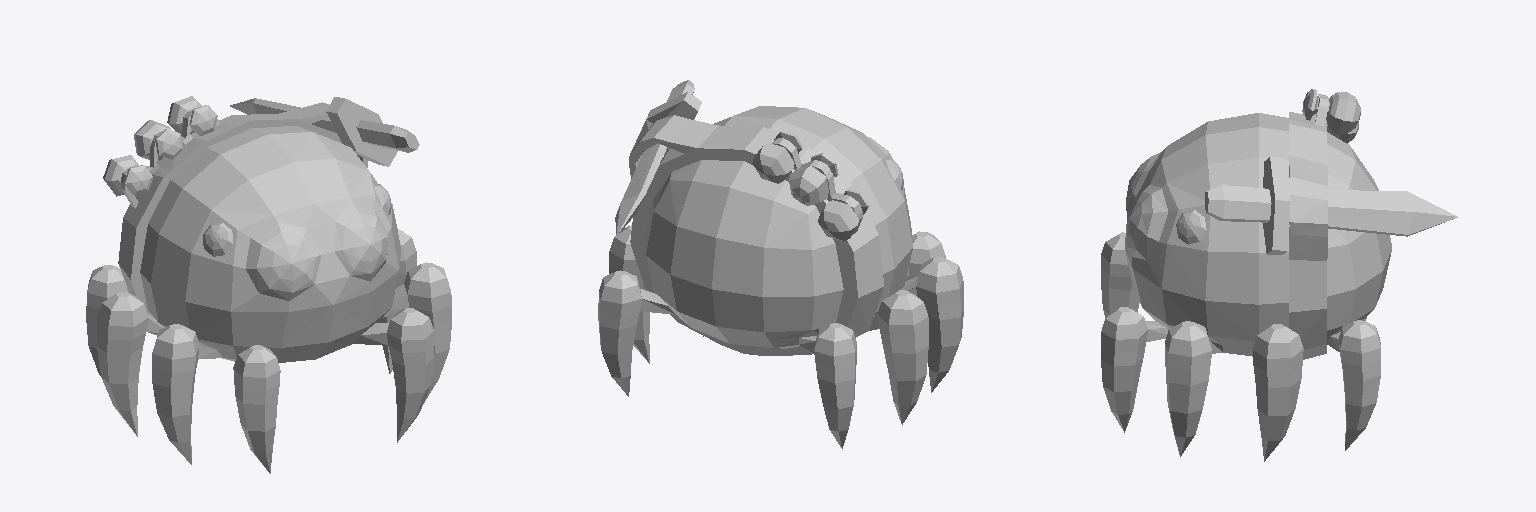
Rendered from Spider.obj.
3 views of the same model, side by side, from view 1: azimuth 30°, elevation 25°; view 2: azimuth 150°, elevation 25°; view 3: azimuth 270°, elevation 25° (orthographic).
Visible parts, largest first — view 1: CUERPO, BELT, SWORD, POTI.001, POTI, POTI.002; view 2: CUERPO, BELT, SWORD, POTI, POTI.001, POTI.002; view 3: CUERPO, BELT, SWORD, POTI.002.
Part boxes in pixels (left/top/right/bottom): CUERPO: left=86, top=126, right=451, bottom=473; BELT: left=118, top=102, right=368, bottom=316; SWORD: left=230, top=97, right=419, bottom=166; POTI.001: left=103, top=155, right=152, bottom=196; POTI: left=134, top=120, right=182, bottom=162; POTI.002: left=167, top=96, right=217, bottom=135; CUERPO: left=598, top=106, right=963, bottom=448; BELT: left=629, top=115, right=883, bottom=355; SWORD: left=615, top=80, right=701, bottom=236; POTI: left=789, top=153, right=838, bottom=205; POTI.001: left=818, top=188, right=868, bottom=240; POTI.002: left=752, top=130, right=802, bottom=183; CUERPO: left=1101, top=113, right=1391, bottom=461; BELT: left=1289, top=94, right=1329, bottom=359; SWORD: left=1205, top=157, right=1457, bottom=254; POTI.002: left=1304, top=90, right=1360, bottom=133.
Size of the model in its own units: 3.88 by 3.49 by 3.89.